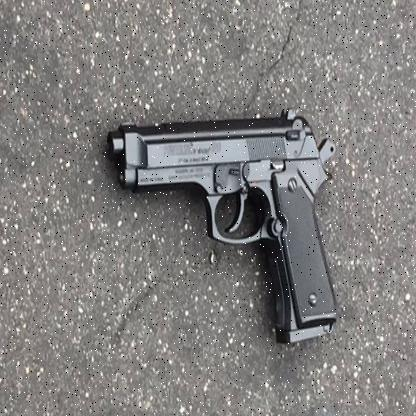pistol: (102, 114, 354, 346)
